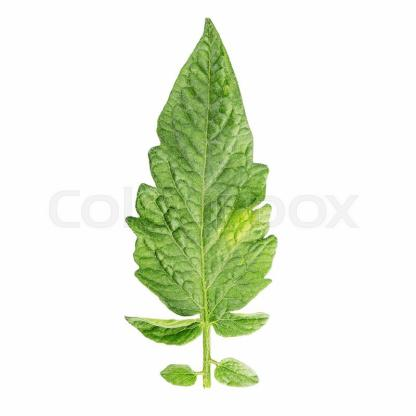tomato leaf: (129, 9, 272, 396)
